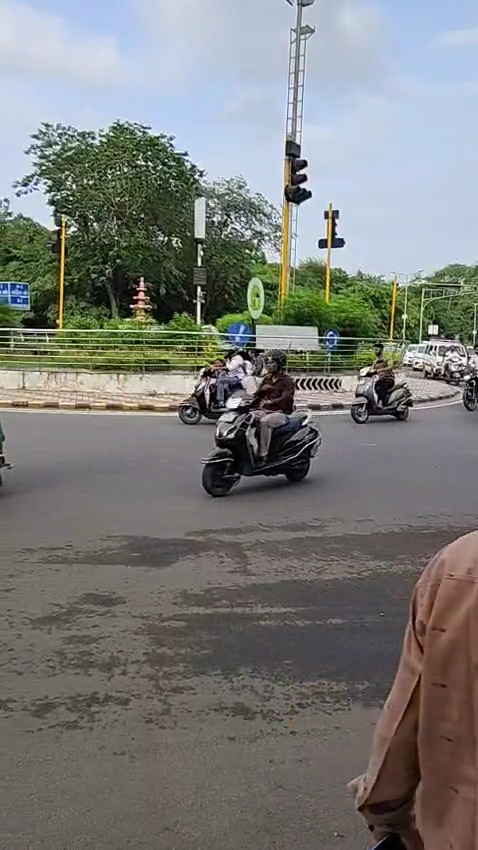BikeWithRider: (199, 348, 323, 499), (176, 343, 272, 425), (349, 342, 414, 424), (440, 344, 466, 384)
Helmet: (264, 349, 289, 375), (220, 344, 238, 359)
NoHelmet: (248, 346, 266, 358), (373, 342, 386, 357)
